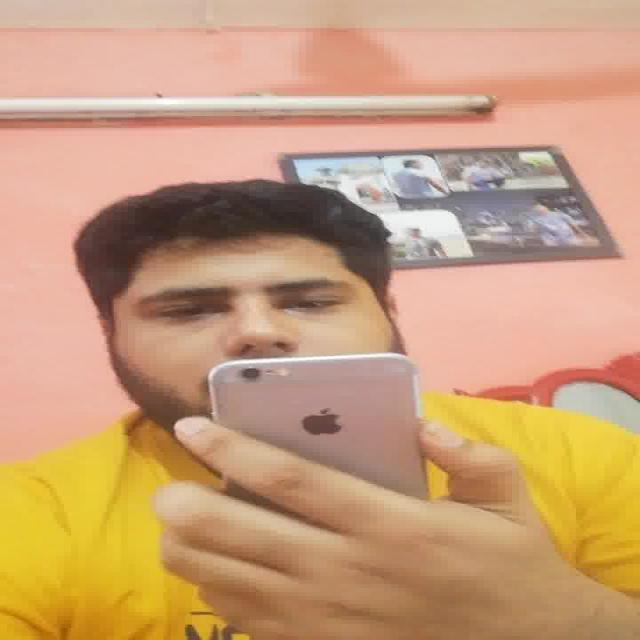Phone: (208, 348, 425, 499)
